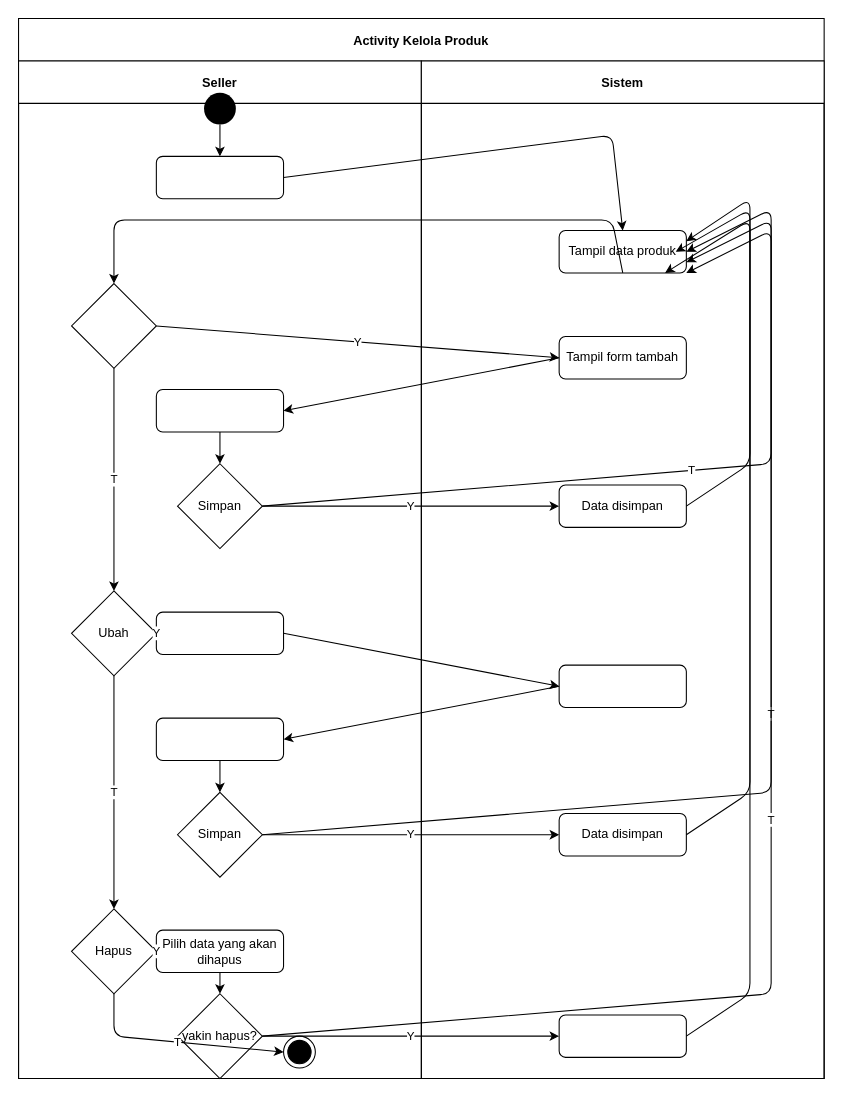
Image size: 843x1097. Some labels were removed from this diagram. Each missing label, with the centre of its shape:
"Data dihapus" goes at point (622, 1035).
"Pilih data yang diubah" goes at point (219, 633).
"Pilih menu produk" goes at point (219, 177).
"Tambah" goes at point (113, 325).
"Tambah data produk" goes at point (219, 410).
"Tampil form ubah" goes at point (622, 686).
"Ubah data produk" goes at point (219, 739).
